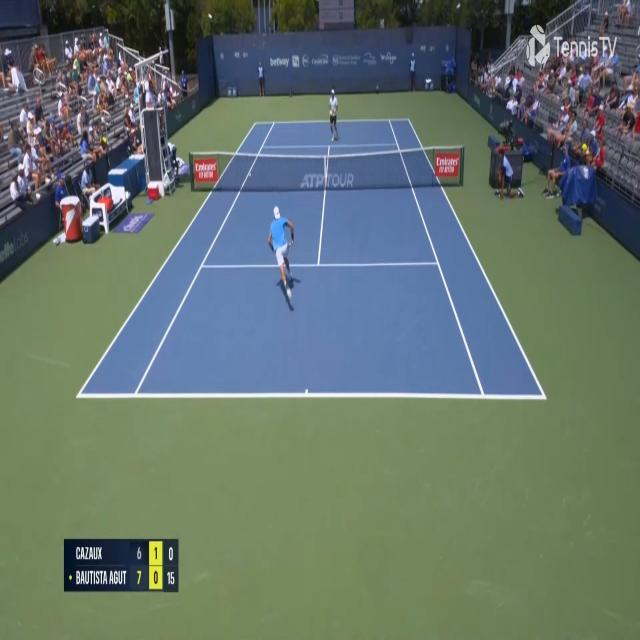tennis-player: (265, 203, 298, 317), (327, 85, 340, 141)
